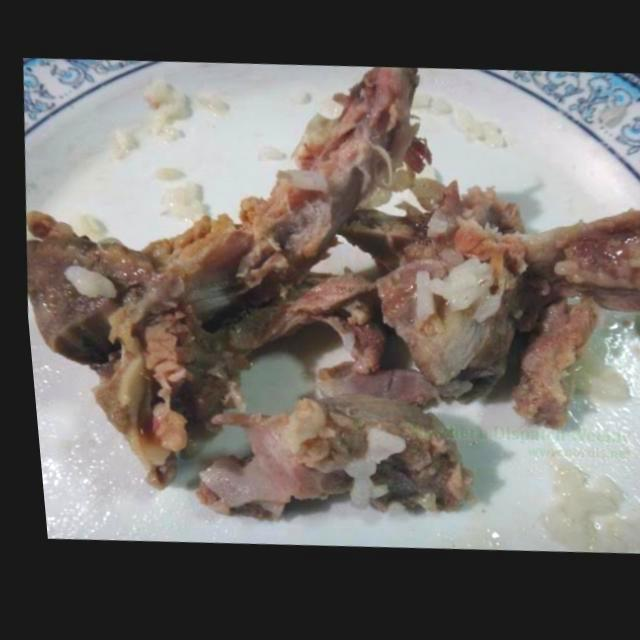left_over_food: (22, 70, 426, 486), (331, 184, 640, 435), (186, 357, 464, 524)
